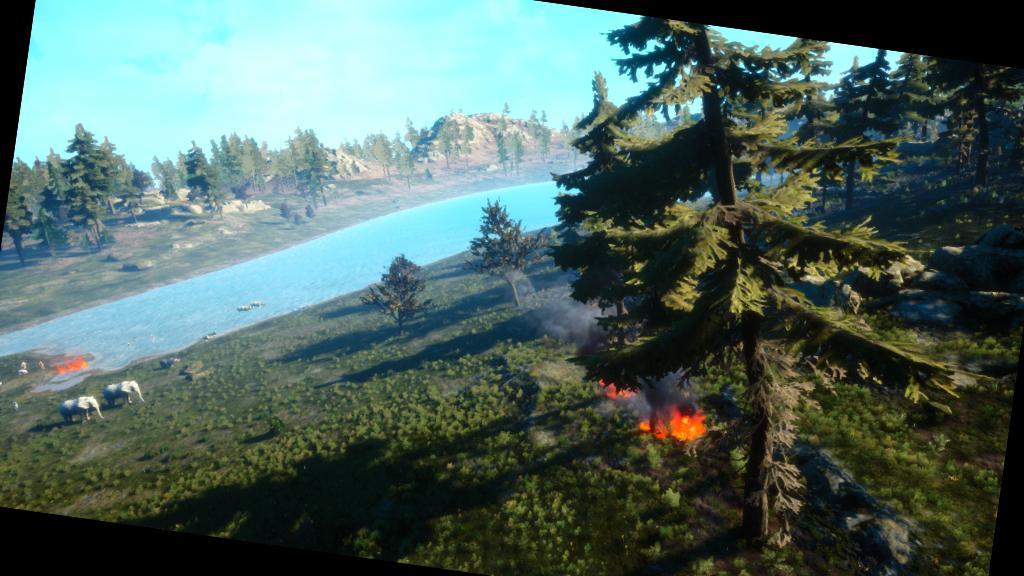Fire: (638, 405, 708, 444), (53, 355, 89, 375)
elephant: (50, 390, 114, 436), (98, 372, 158, 414)
smoke: (634, 366, 706, 408), (539, 288, 596, 340)
